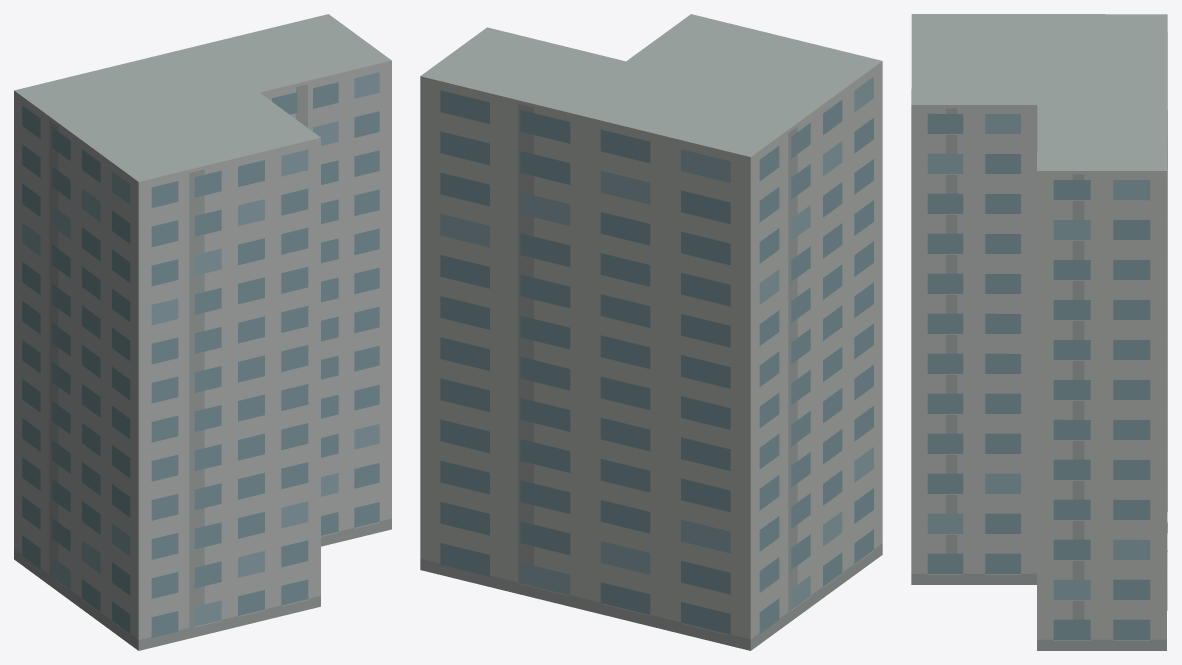
The model's file is residential-4037a6ba-8541-4a72-872e-b3c1b4bace90.glb.
3 renders of one model, left to right at view 1: azimuth 30°, elevation 25°; view 2: azimuth 150°, elevation 25°; view 3: azimuth 270°, elevation 25°, orthographic. The views are drawn at different scales.
Visible parts, largest first — view 1: residential-4037a6ba-8541-4a72-872e-b3c1b4bace90.tmp; view 2: residential-4037a6ba-8541-4a72-872e-b3c1b4bace90.tmp; view 3: residential-4037a6ba-8541-4a72-872e-b3c1b4bace90.tmp.
Boxes of the visible parts, box(x1,y1,x2,y2) form: residential-4037a6ba-8541-4a72-872e-b3c1b4bace90.tmp: box(14, 14, 391, 650); residential-4037a6ba-8541-4a72-872e-b3c1b4bace90.tmp: box(420, 14, 882, 650); residential-4037a6ba-8541-4a72-872e-b3c1b4bace90.tmp: box(911, 14, 1167, 650).
Bounding box in the file's own units: 24.59 × 35 × 16.96.
